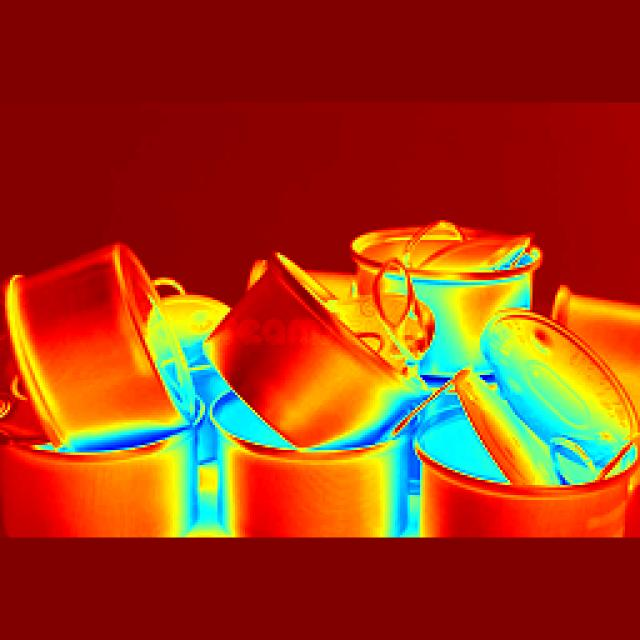Aluminium Food Cans: (475, 318, 640, 518), (2, 254, 182, 413), (343, 205, 522, 357), (209, 277, 378, 423), (21, 434, 210, 530), (235, 426, 404, 530)
